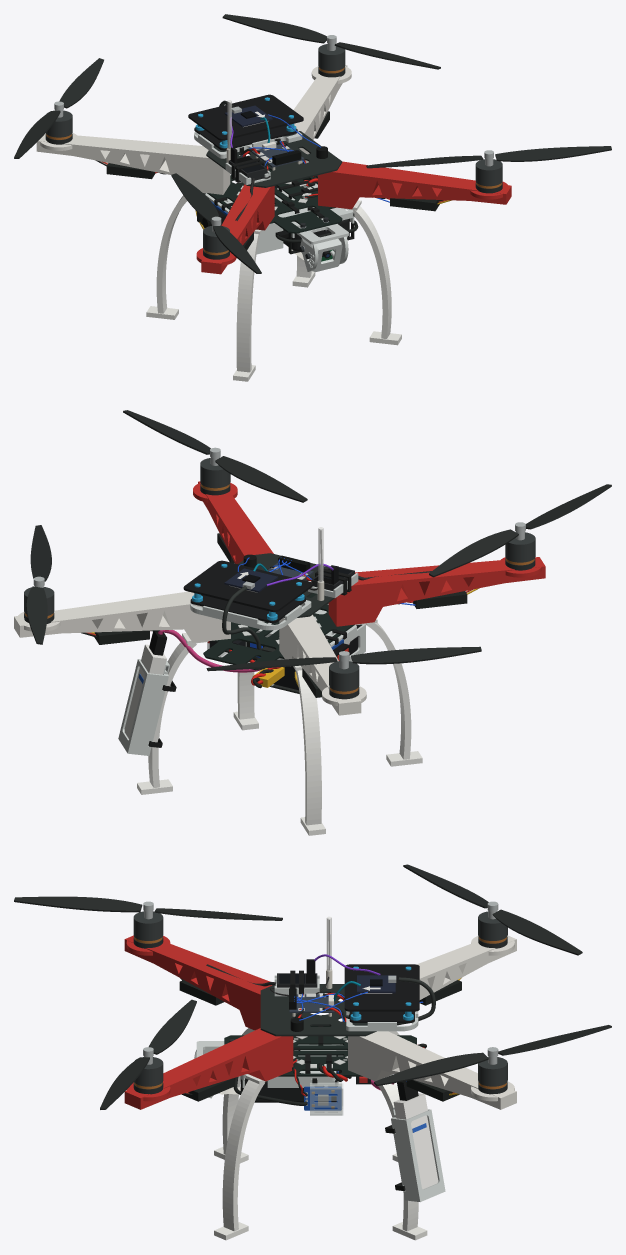
Rendered from f450-drone-web.glb.
The picture shows the model from 3 angles, top to bottom: view 1: azimuth 30°, elevation 25°; view 2: azimuth 150°, elevation 25°; view 3: azimuth 270°, elevation 25°; orthographic projection. The views are drawn at different scales.
Visible parts, largest first — view 1: Arms and ESCs, Landing gear, Bottom plate (PDB), Damper plate (upper), Top plate, prop_front_left, prop_rear_left, prop_rear_right, prop_front_right, Cable tie, Tilt mount (printed), motor_front_left (+10 smaller); view 2: Arms and ESCs, Landing gear, Damper plate (upper), MF833 sleeve (printed), prop_rear_right, Bottom plate (PDB), prop_front_right, prop_front_left, prop_rear_left, FC deck (printed), motor_rear_right, motor_front_right (+9 smaller); view 3: Arms and ESCs, Landing gear, Top plate, Damper plate (upper), MF833 sleeve (printed), prop_front_right, prop_rear_left, prop_rear_right, Bottom plate (PDB), prop_front_left, ZTE MF833 4G stick, BEC sleeve (printed) (+12 smaller).
Part boxes in pixels (x1,y1,x2,y2): Arms and ESCs: [36, 65, 511, 274]; Landing gear: [146, 180, 401, 381]; Bottom plate (PDB): [207, 169, 342, 233]; Damper plate (upper): [188, 94, 303, 140]; Top plate: [206, 131, 342, 187]; prop_front_left: [366, 146, 611, 168]; prop_rear_left: [222, 14, 440, 69]; prop_rear_right: [14, 58, 103, 158]; prop_front_right: [171, 173, 261, 273]; Cable tie: [214, 138, 354, 254]; Tilt mount (printed): [297, 224, 348, 271]; motor_front_left: [475, 159, 502, 193]; Arms and ESCs: [14, 481, 545, 715]; Landing gear: [137, 618, 422, 835]; Damper plate (upper): [183, 560, 312, 612]; MF833 sleeve (printed): [118, 659, 169, 755]; prop_rear_right: [206, 646, 481, 671]; Bottom plate (PDB): [203, 593, 354, 670]; prop_front_right: [429, 484, 611, 577]; prop_front_left: [123, 410, 307, 502]; prop_rear_left: [26, 525, 51, 644]; FC deck (printed): [190, 600, 311, 630]; motor_rear_right: [329, 660, 359, 699]; motor_front_right: [505, 532, 535, 570]; Arms and ESCs: [124, 935, 516, 1109]; Landing gear: [214, 1028, 427, 1240]; Top plate: [260, 984, 376, 1036]; Damper plate (upper): [344, 964, 419, 1011]; MF833 sleeve (printed): [391, 1107, 445, 1201]; prop_front_right: [14, 896, 282, 920]; prop_rear_left: [374, 1025, 611, 1086]; prop_rear_right: [403, 864, 582, 955]; Bottom plate (PDB): [224, 1026, 416, 1076]; prop_front_left: [100, 999, 196, 1109]; ZTE MF833 4G stick: [393, 1093, 438, 1189]; BEC sleeve (printed): [310, 1082, 343, 1115].
Bounding box in the file's own units: 0.5414 × 0.2637 × 0.5585.
